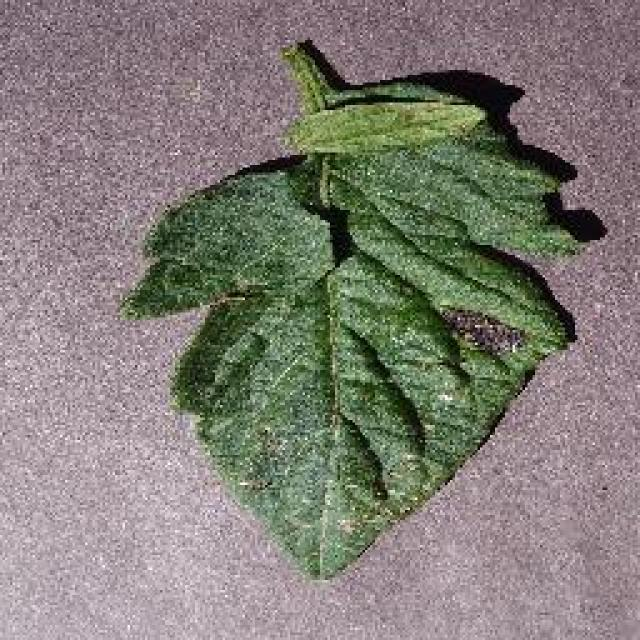Tomato___Early_blight: (113, 44, 584, 582)
